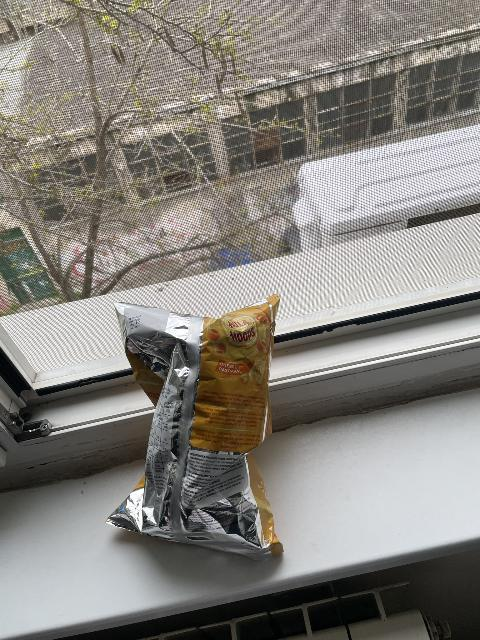Chio Hula Hoops Cheese 70g: (105, 300, 289, 558)
